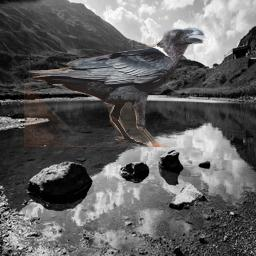Crow: (24, 25, 205, 147)
